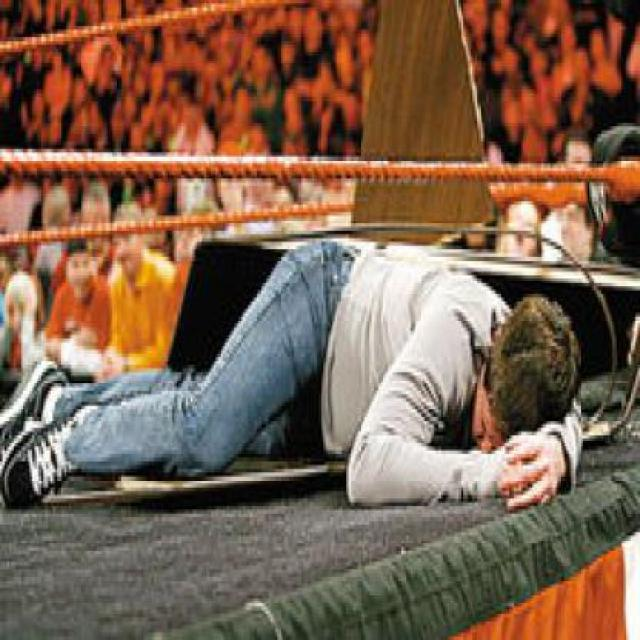fall: (9, 205, 603, 506)
